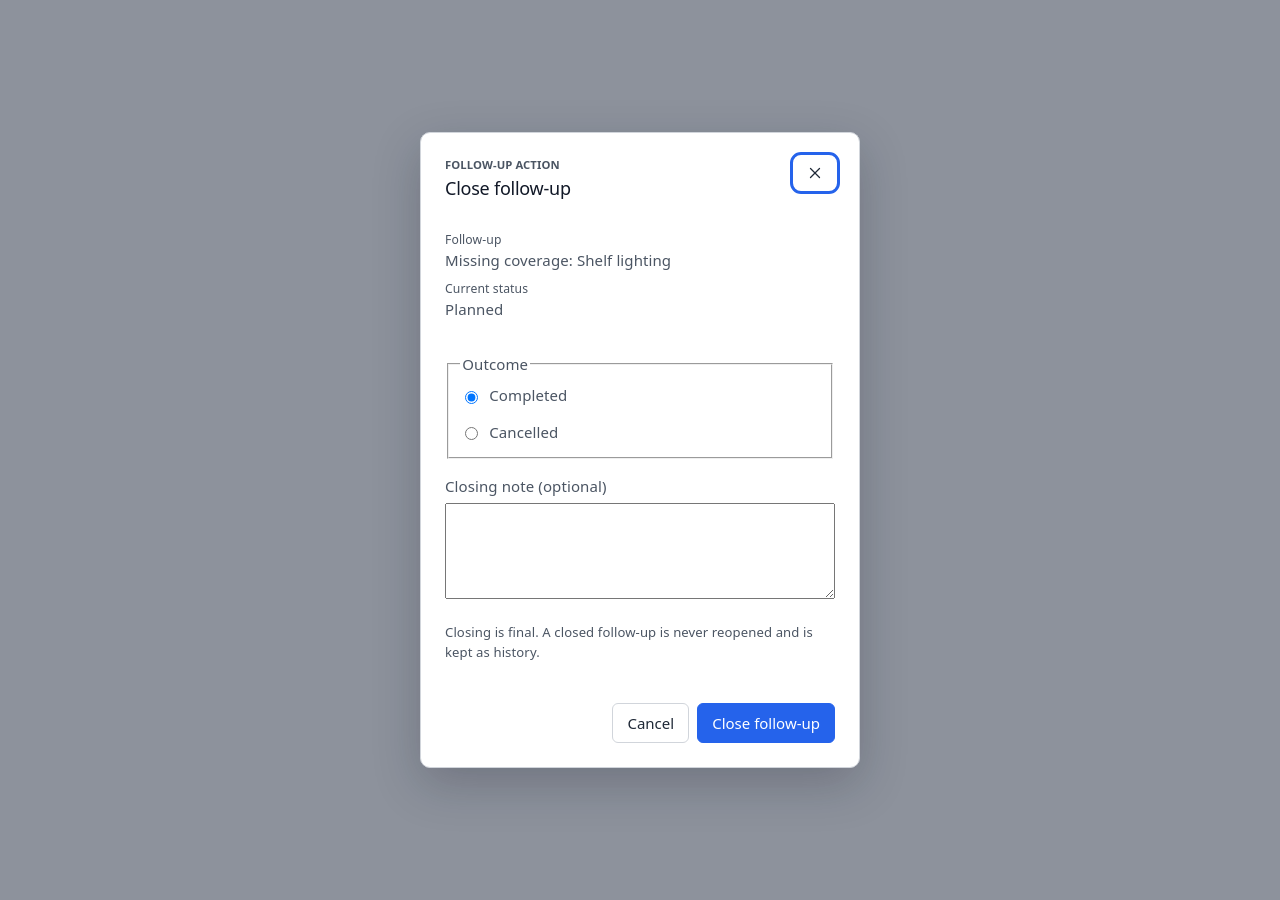
Test case: CloseFollowUpDialog › requires a note to cancel
Click the radio button labelled "Cancelled".
click(472, 434)  # box [465,427,478,440]
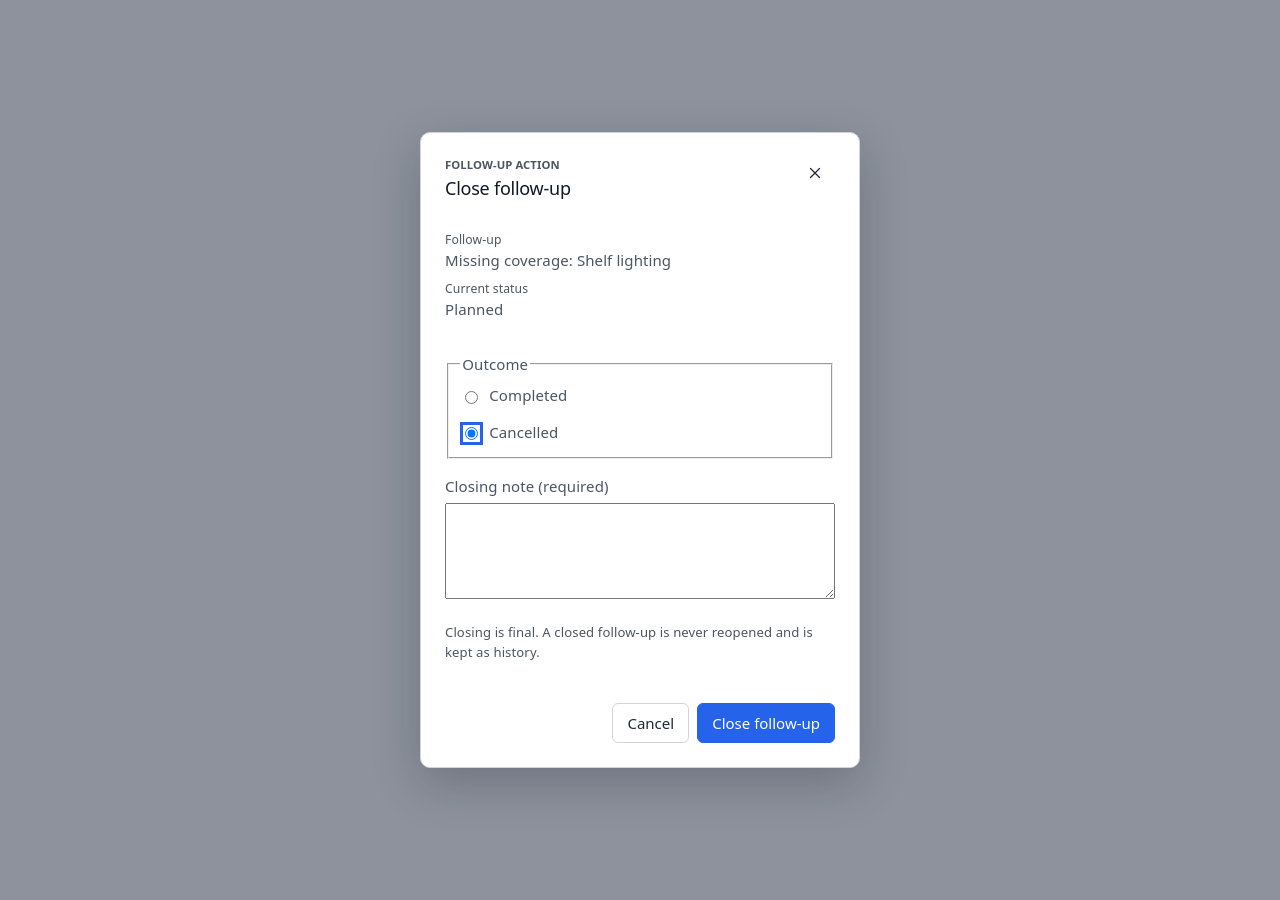
Click the button "Close follow-up".
click(766, 723)  # box [697,703,835,743]
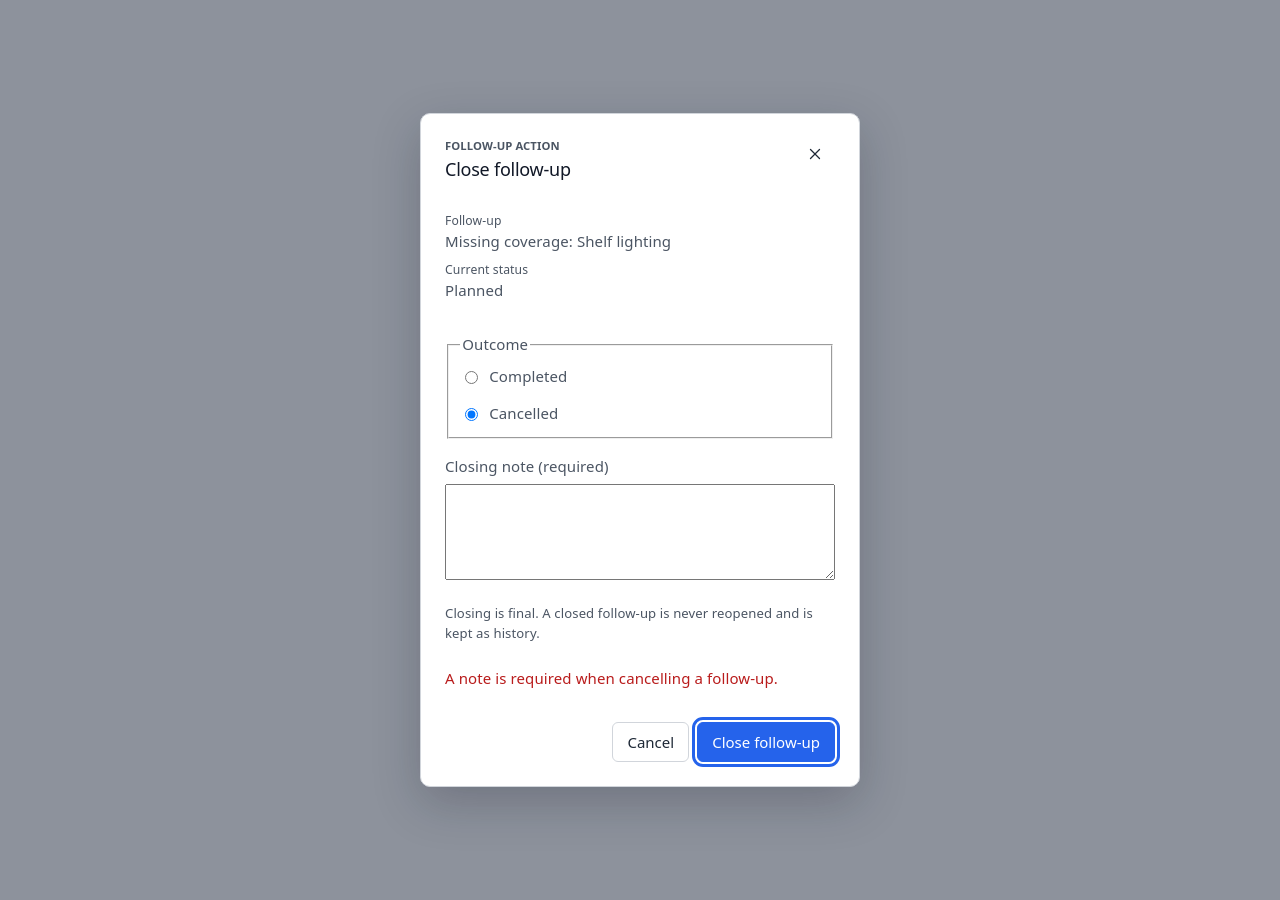
Now the message reads "A note is required when cancelling a follow-up.", box [445,668,778,688]
